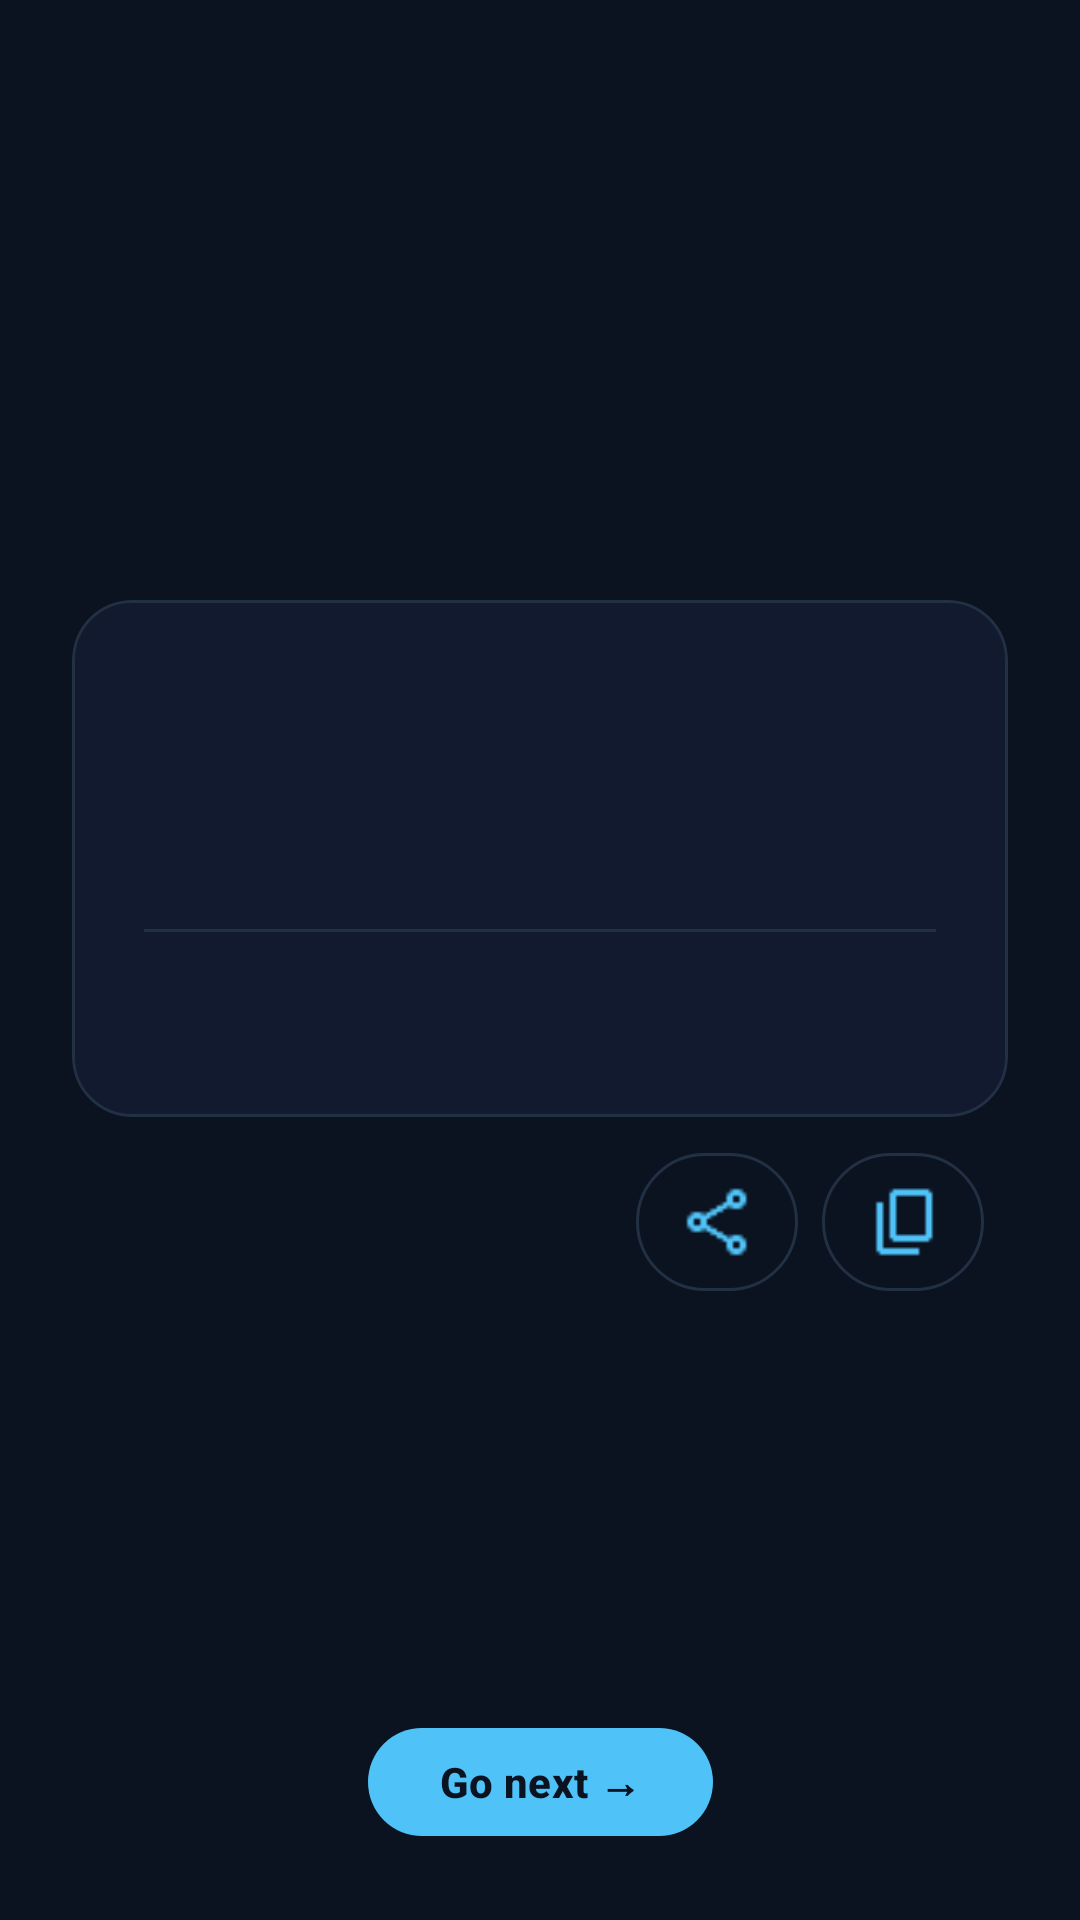

Locate icon controls on the screen. Image size 1080 × 1920, boxes as (x1,y1,x2,y2).
content share: (636,1153,798,1291)
